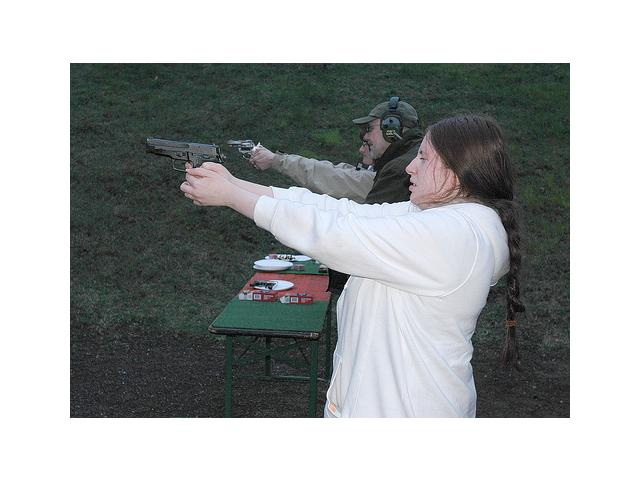pistol: (140, 136, 223, 206), (224, 137, 263, 169)
